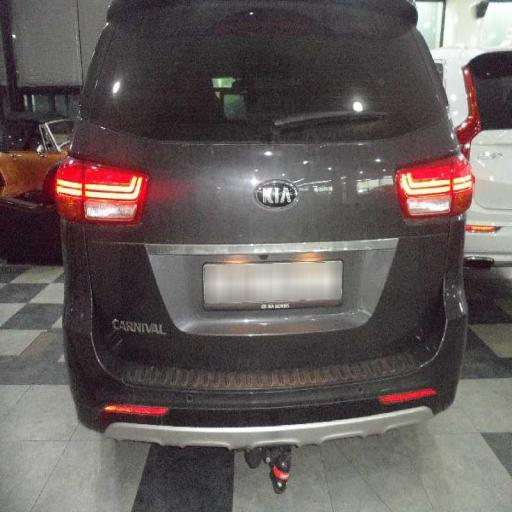scratch: (58, 94, 470, 271)
